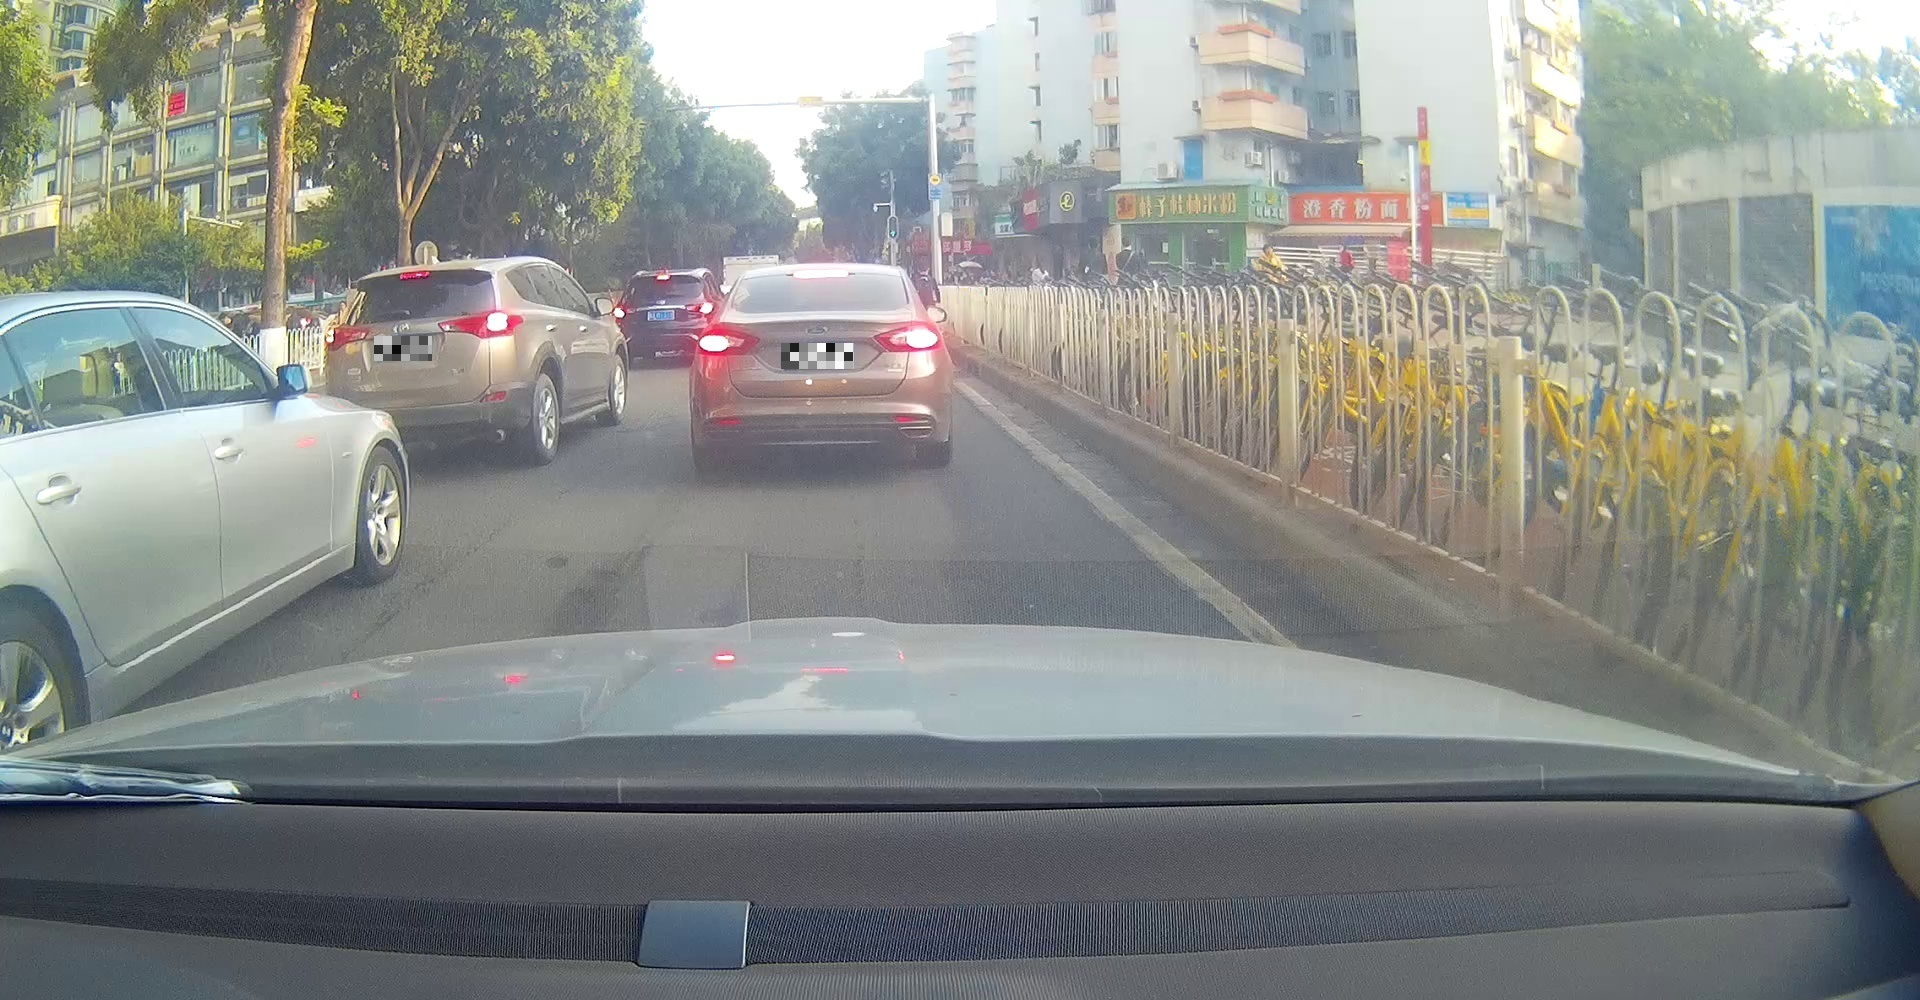L_light: (697, 326, 762, 357), (325, 324, 370, 352)
R_light: (438, 308, 524, 339), (872, 322, 942, 352)
T_light: (792, 268, 850, 279), (397, 270, 430, 280)
day-brake: (695, 263, 943, 471), (324, 260, 524, 463)
plate_1: (375, 336, 432, 360)
plate_2: (781, 343, 855, 369)
